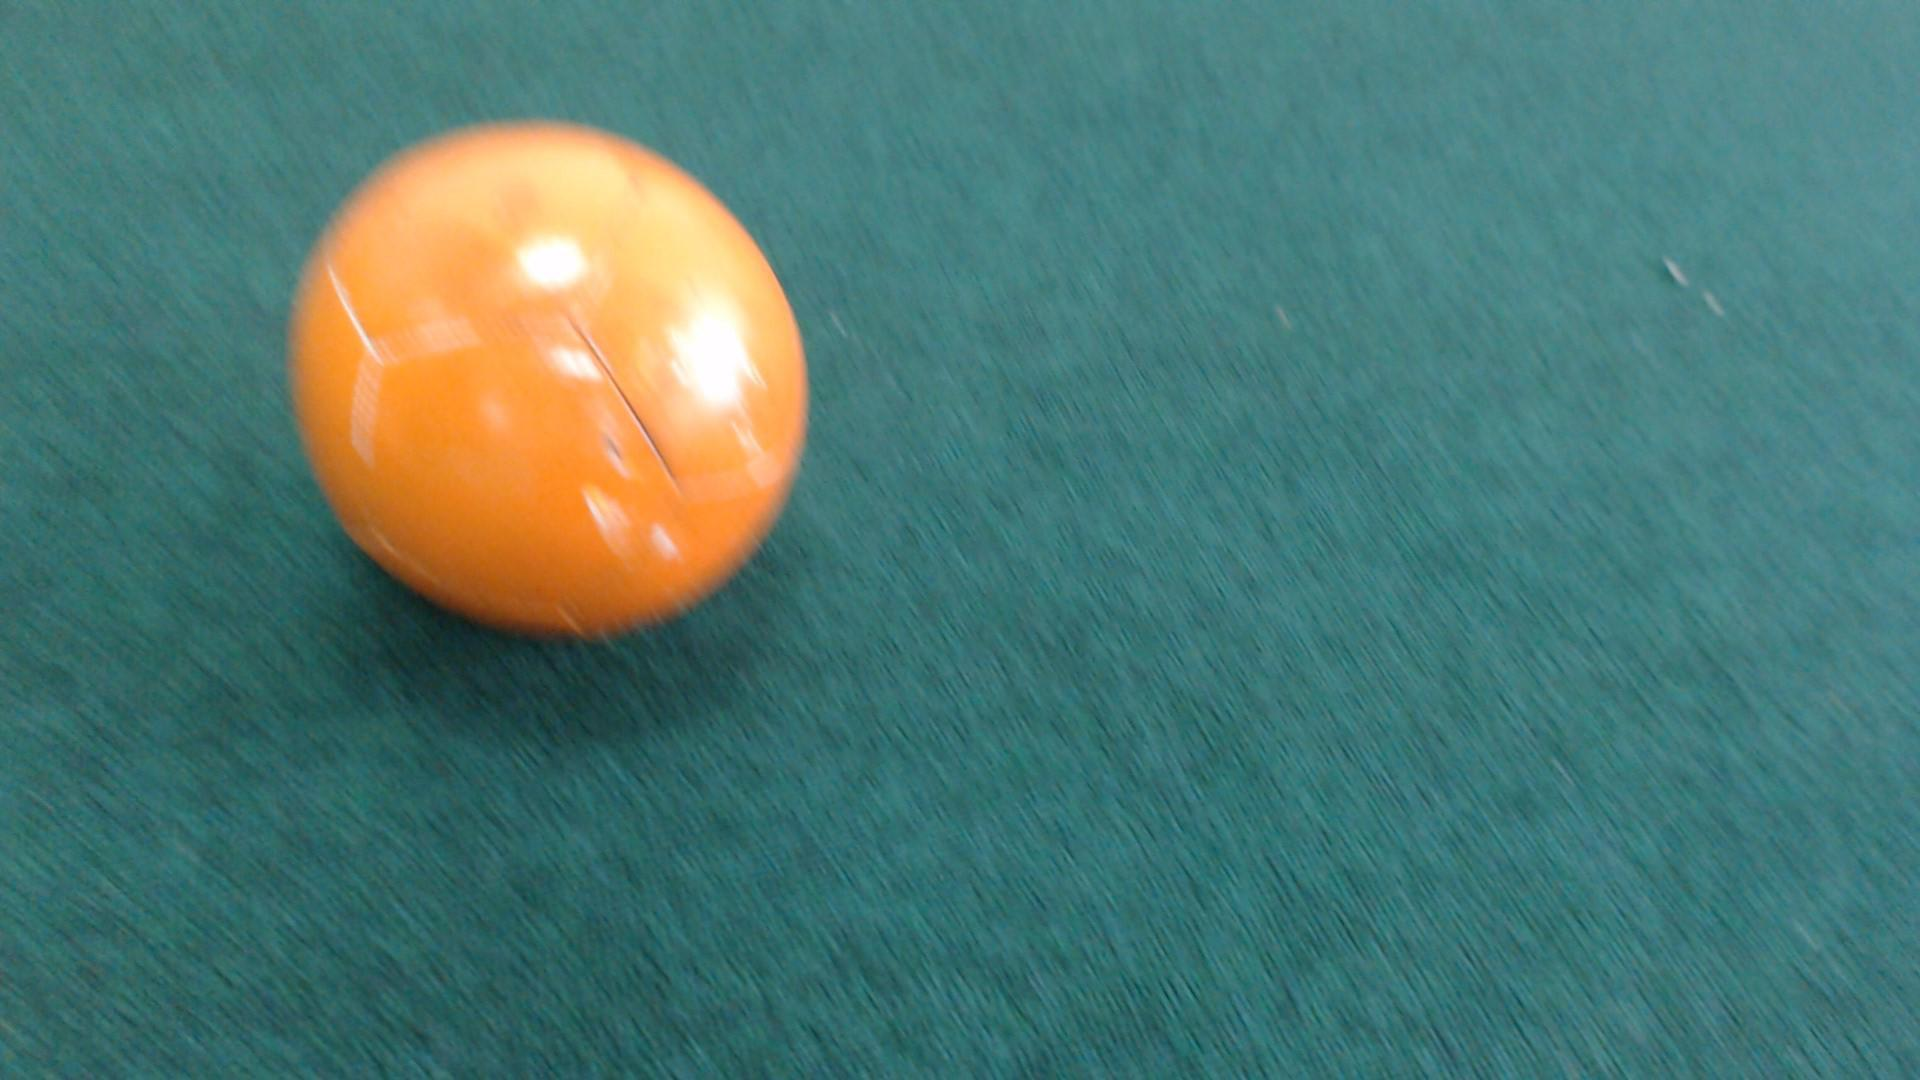bola: (265, 103, 872, 670)
